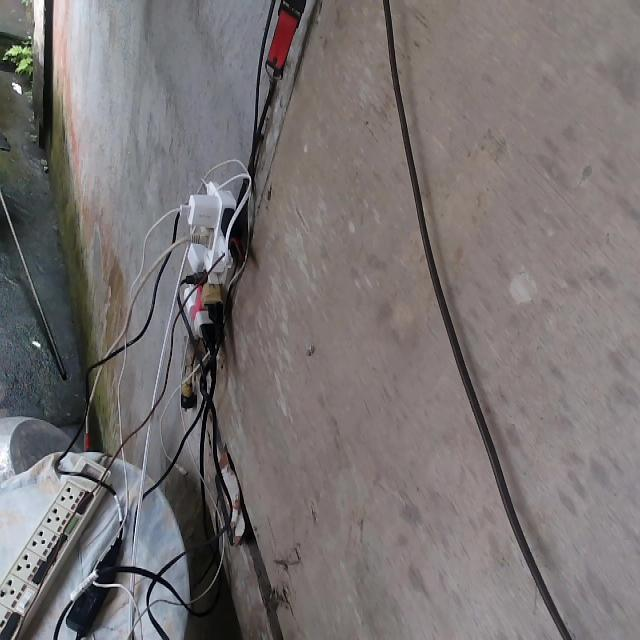-: (169, 175, 242, 345)
